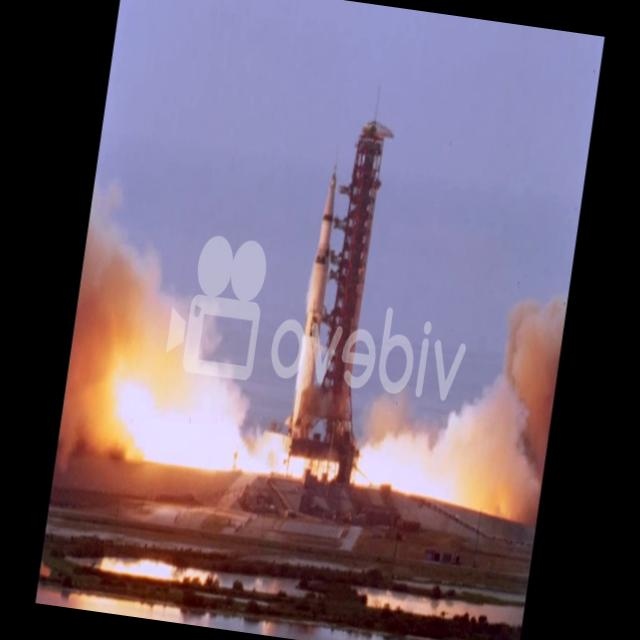rocket: (280, 157, 346, 458)
